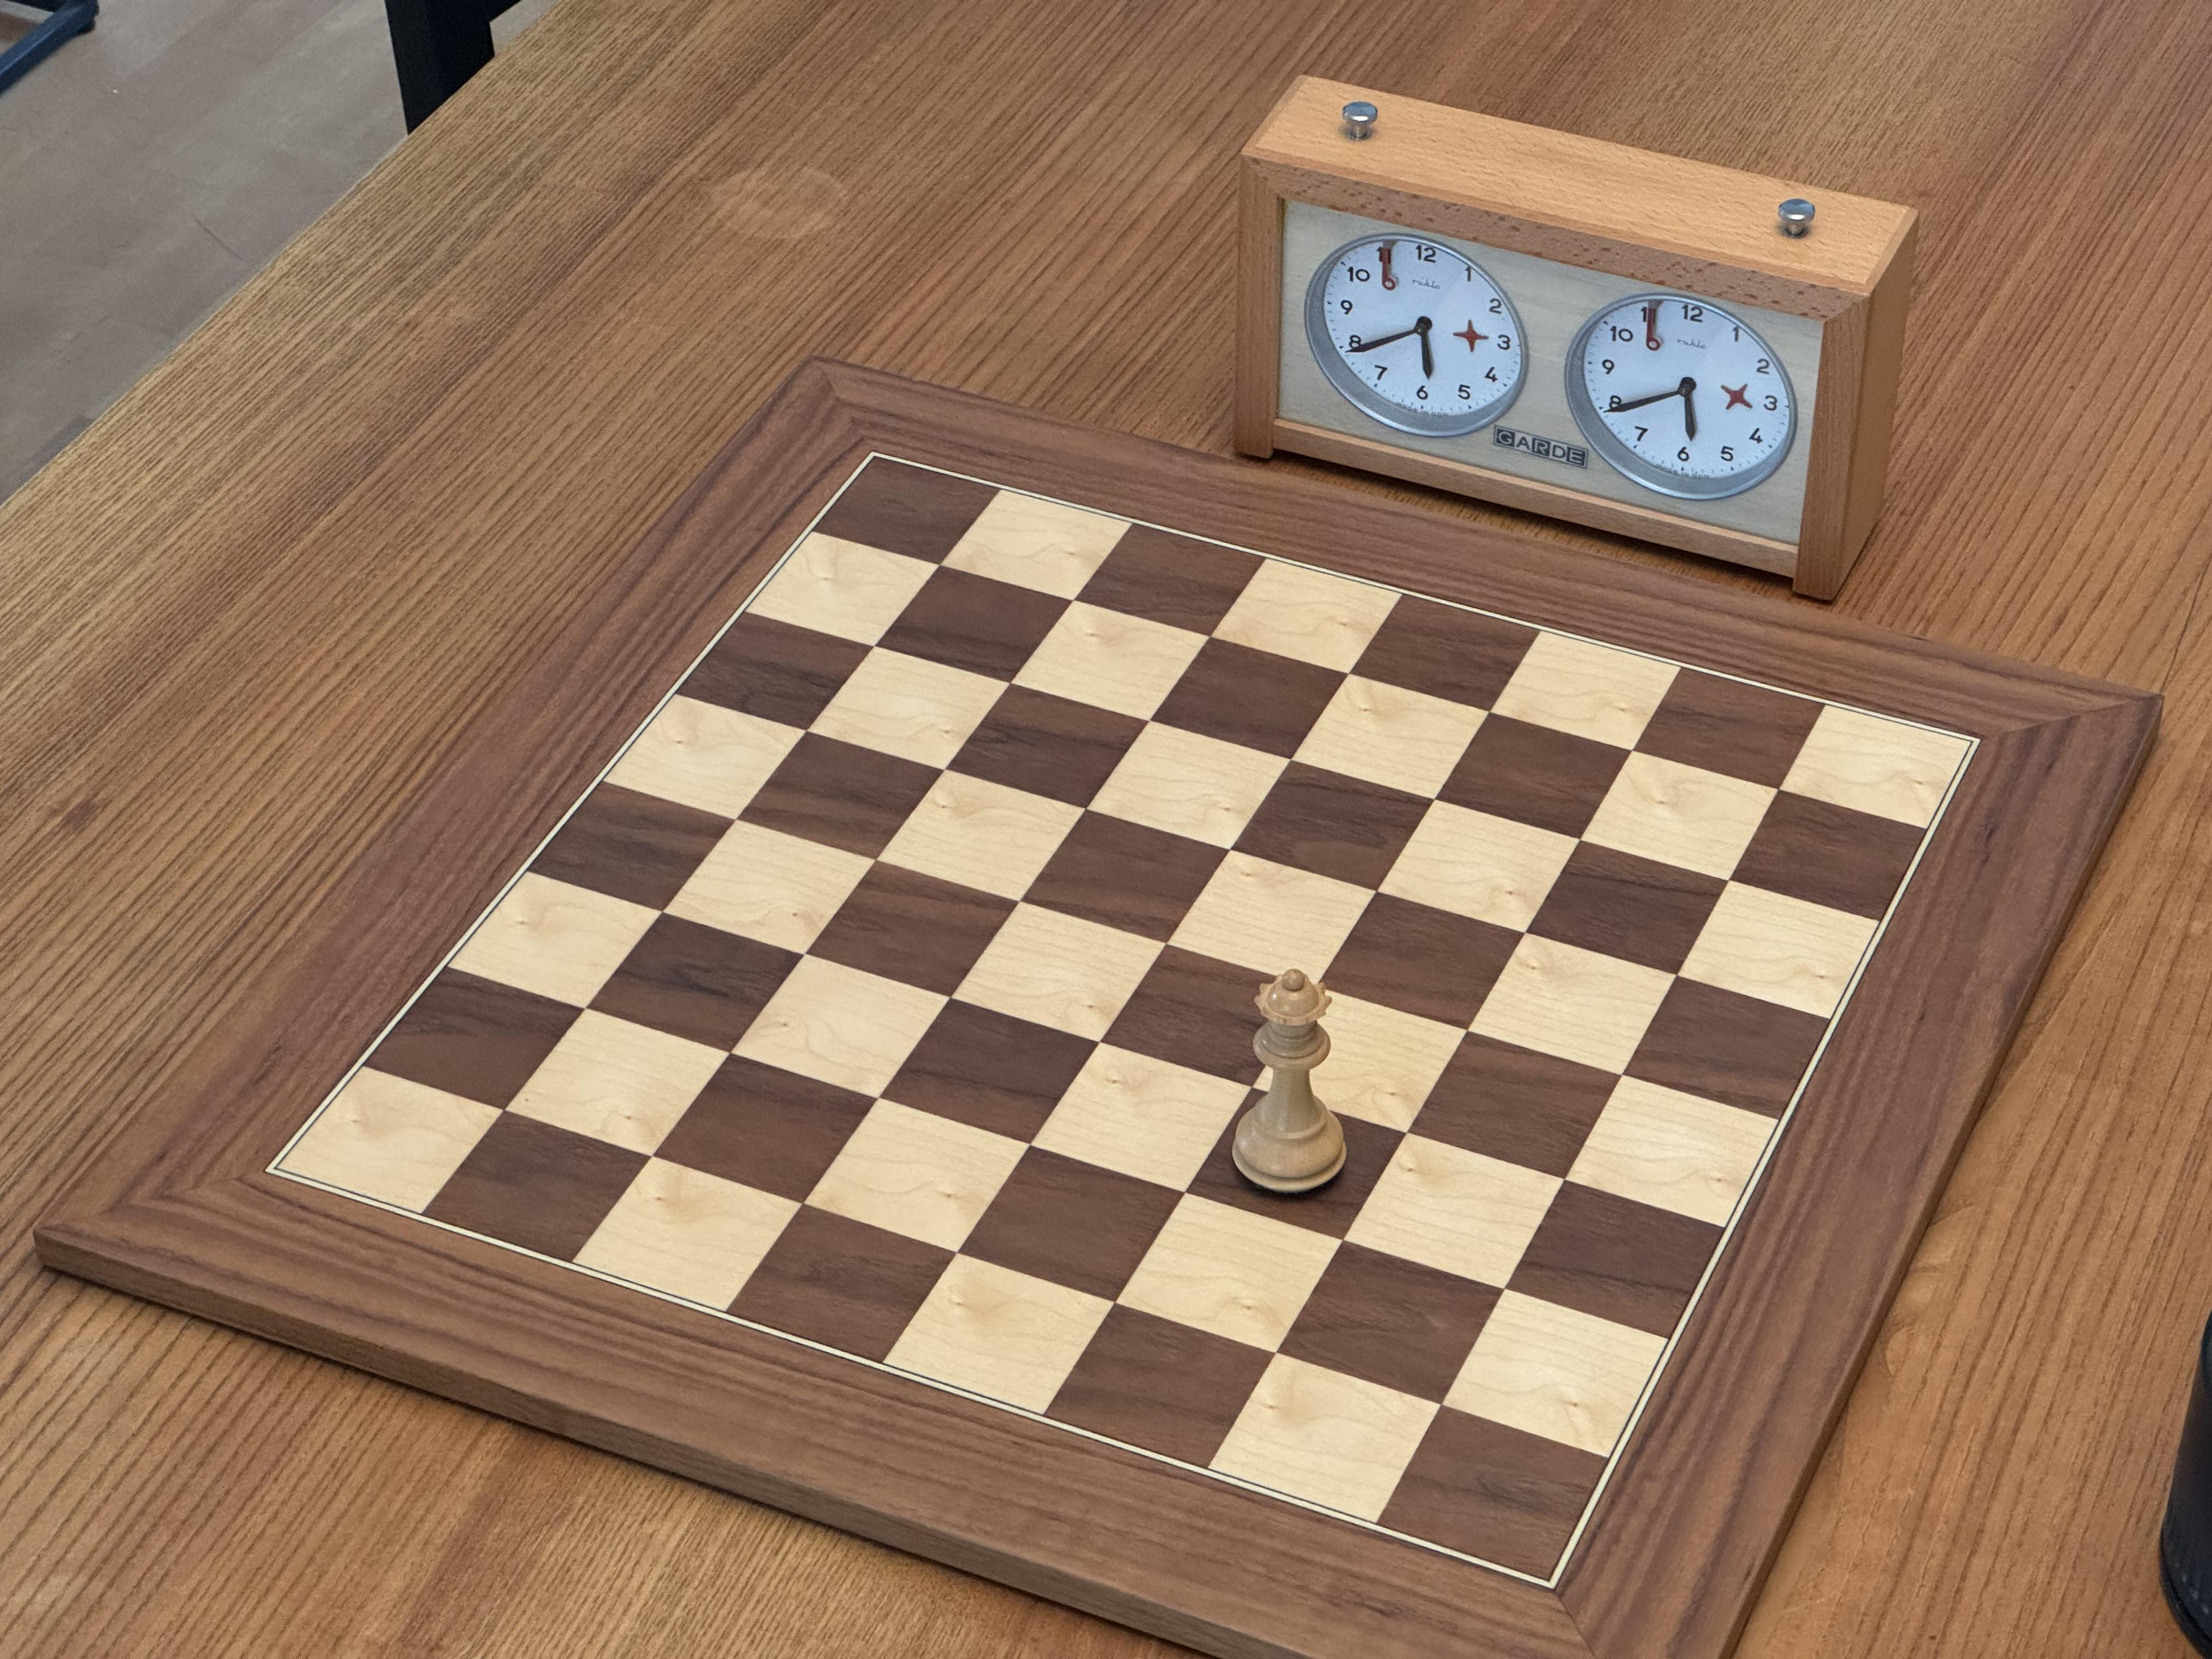White Queen: (1228, 964, 1351, 1205)
